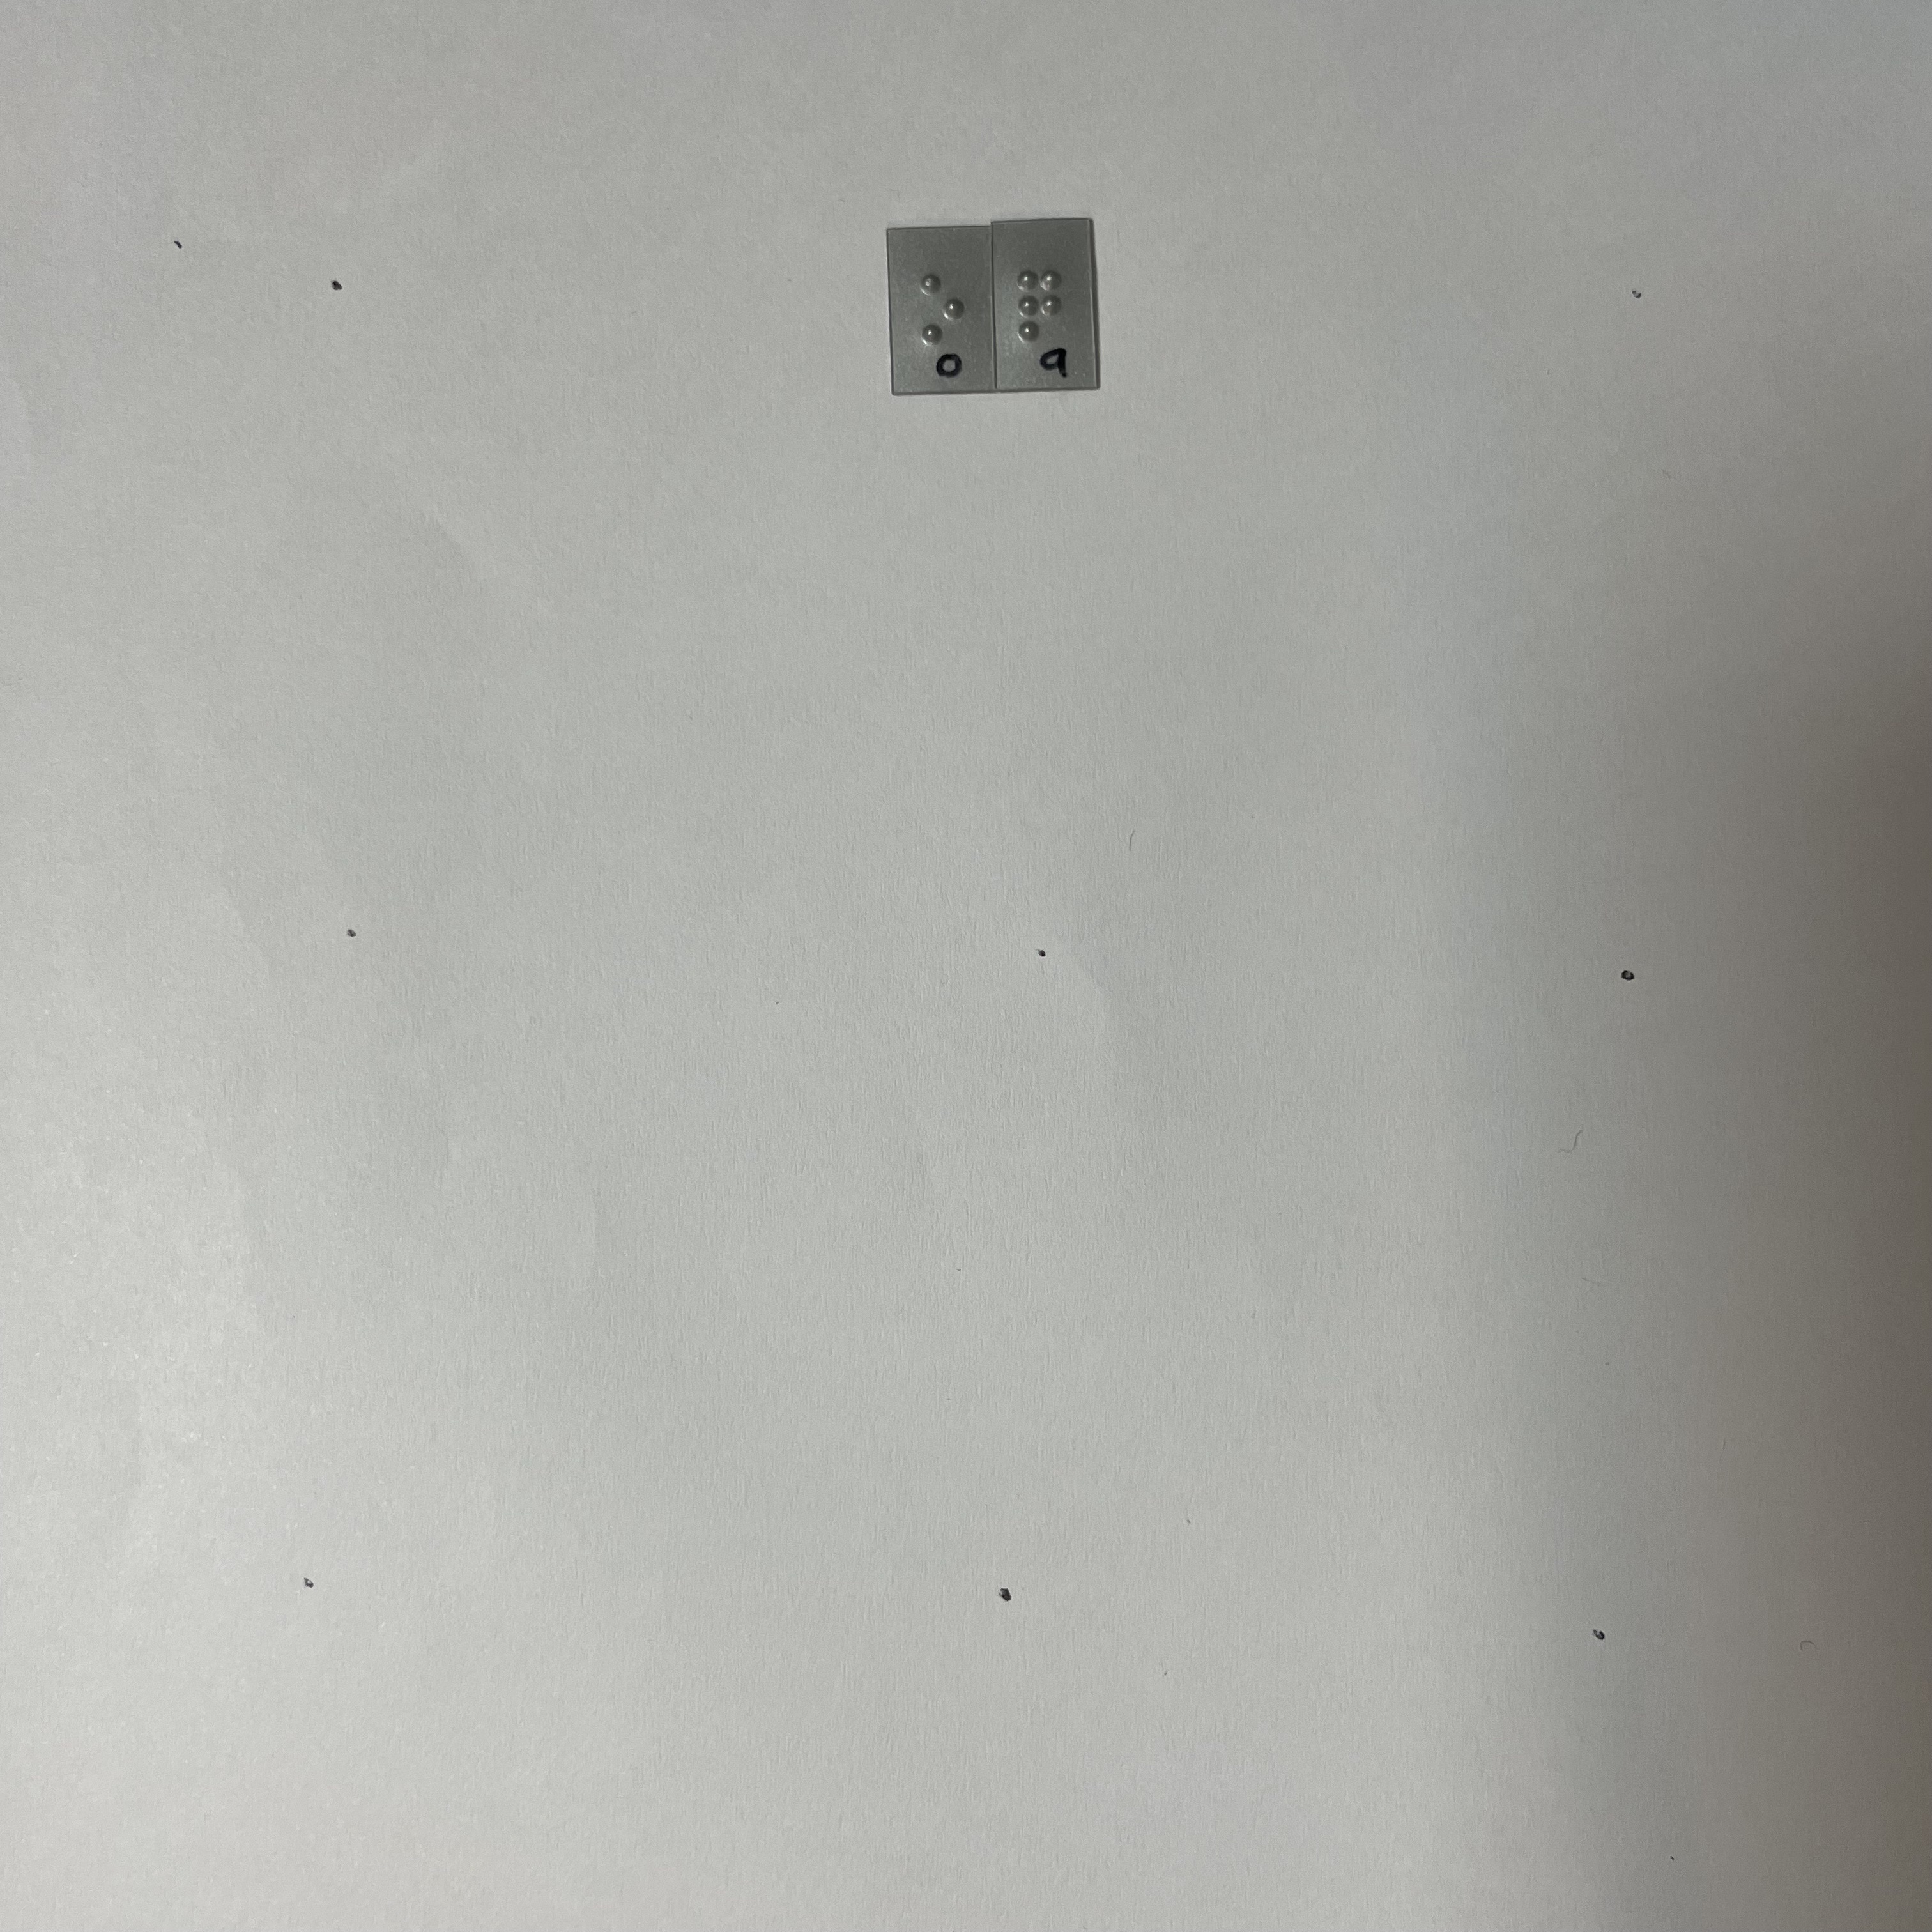o: (915, 260, 970, 348)
q: (1011, 262, 1064, 346)
